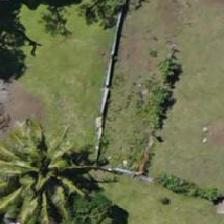coconut_tree: (0, 126, 78, 216)
